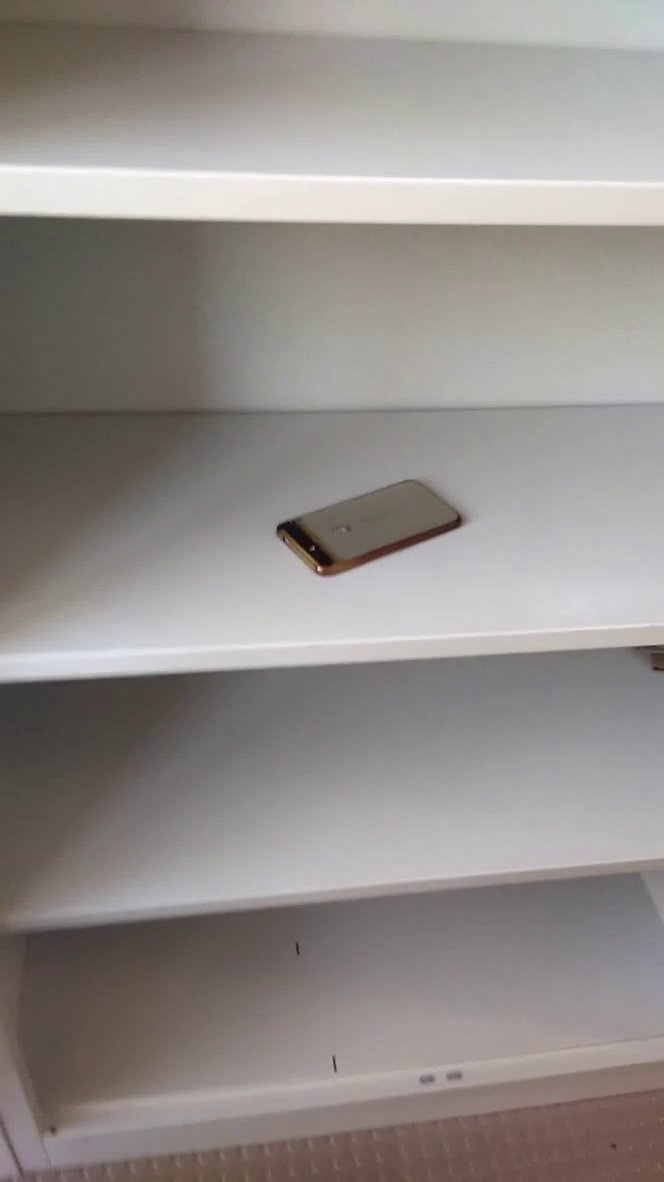phone: (270, 461, 485, 597)
